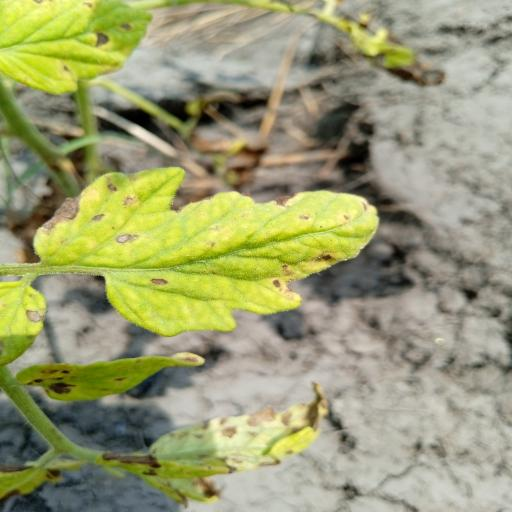Tomato_Brown_Spots: (26, 164, 382, 341)
